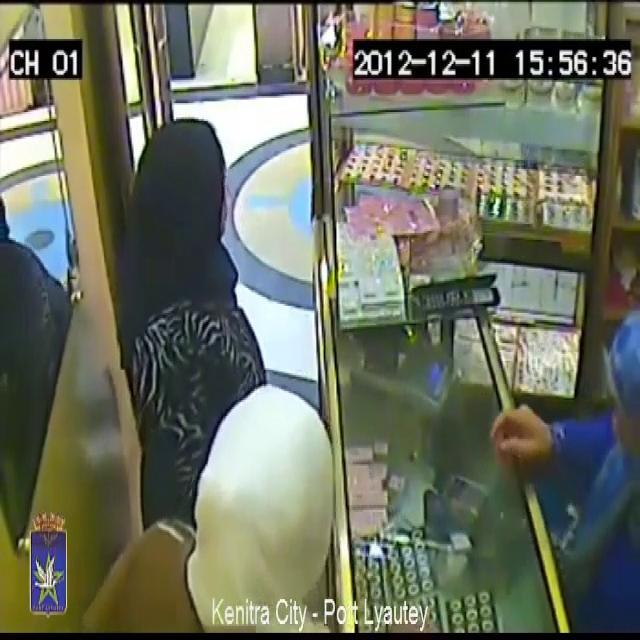normal: (112, 412, 408, 640), (108, 80, 269, 454), (479, 283, 640, 640)
